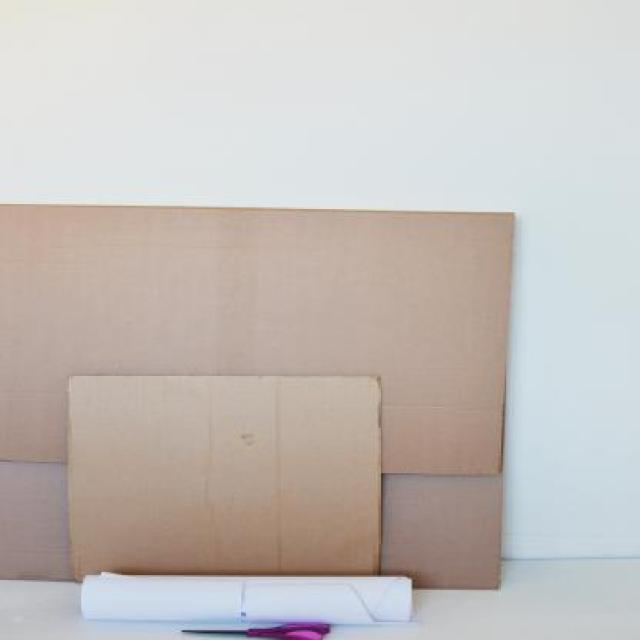box: (0, 191, 528, 598)
